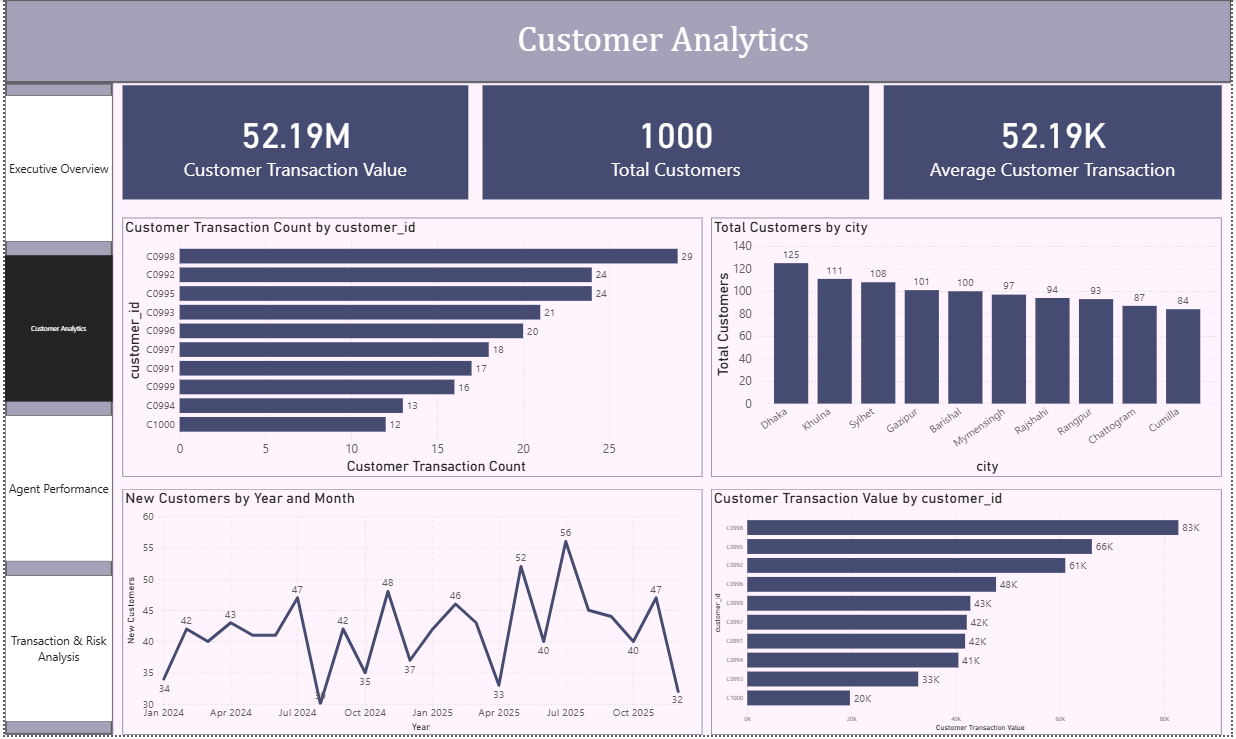

This screenshot's page, from the dashboard's own definition file:
{"tool":"powerbi","page":{"name":"Customer Analytics","canvas":[2500,1500],"ordinal":1},"visuals":[{"type":"actionButton","box":[0,0,2500.5,171.5],"z":0},{"type":"actionButton","box":[0,171.5,219.8,1329.3],"z":1000},{"type":"textbox","box":[670,37.5,1342.7,96.5],"z":2000},{"type":"card","fields":{"Values":["Measure.Customer Transaction Value"]},"box":[238.5,176.9,704.9,233.2],"z":3000},{"type":"card","fields":{"Values":["Measure.Average Customer Transaction"]},"box":[1790.3,176.9,688.8,233.2],"z":4000},{"type":"card","fields":{"Values":["Measure.Total Customers"]},"box":[972.9,176.9,788,233.2],"z":5000},{"type":"barChart","fields":{"Category":["public customers.customer_id"],"Y":["Measure.Customer Transaction Count"]},"box":[238.5,444.9,1181.9,528],"z":8000},{"type":"clusteredColumnChart","fields":{"Category":["public customers.city"],"Y":["Measure.Total Customers"]},"box":[1439.2,444.9,1039.9,528],"z":9000},{"type":"lineChart","fields":{"Y":["Measure.New Customers"],"Category":["public customers.registration_date.Variation.Date Hierarchy.Year","public customers.registration_date.Variation.Date Hierarchy.Month"]},"box":[238.5,999.7,1181.9,501.2],"z":10000},{"type":"barChart","fields":{"Category":["public customers.customer_id"],"Y":["Measure.Customer Transaction Value"]},"box":[1439.2,999.7,1039.9,501.2],"z":11000},{"type":"pageNavigator","box":[0,196.2,219.1,1278.9],"z":11001}]}

Visuals, with their boxes on the page's 2500x1500 design canvas (x1, y1, x2, y2). These are canvas units, not pixel positions in the 1236x739 screenshot, which may show the page scaled, cropped or inside an application window:
actionButton: 0 0 2500 172
actionButton: 0 172 220 1501
textbox: 670 38 2013 134
card - Measure.Customer Transaction Value: 238 177 943 410
card - Measure.Average Customer Transaction: 1790 177 2479 410
card - Measure.Total Customers: 973 177 1761 410
barChart - public customers.customer_id x Measure.Customer Transaction Count: 238 445 1420 973
clusteredColumnChart - public customers.city x Measure.Total Customers: 1439 445 2479 973
lineChart - Measure.New Customers x public customers.registration_date.Variation.Date Hierarchy.Year: 238 1000 1420 1501
barChart - public customers.customer_id x Measure.Customer Transaction Value: 1439 1000 2479 1501
pageNavigator: 0 196 219 1475
